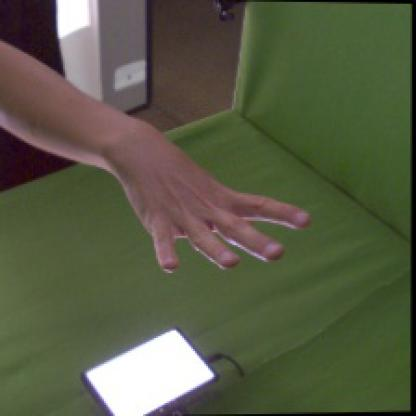Hand: (111, 122, 310, 272)
